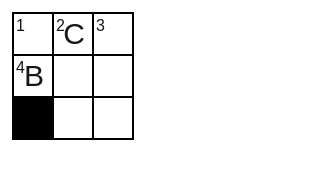
Text Edit Mode › Auto-advance › advances to the next empty non-black square after entry (in down mode, to the next down word if needed)
Click the 1st field with test id "crossword-input" at [34, 34], box left=14, top=14, right=54, bottom=54
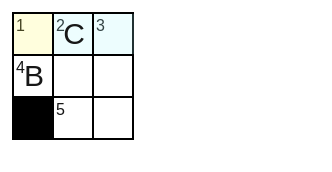
Type keys " "
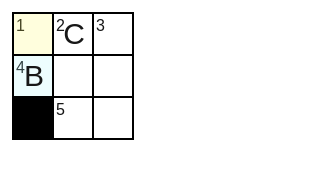
Type keys "a"
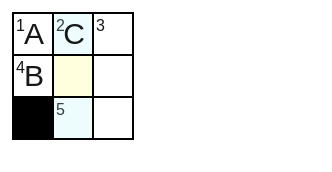
Type keys "d"
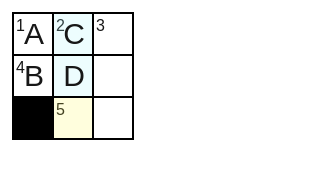
Check: the 5th field with test id "crossword-input" holds "D", box left=54, top=56, right=94, bottom=96
